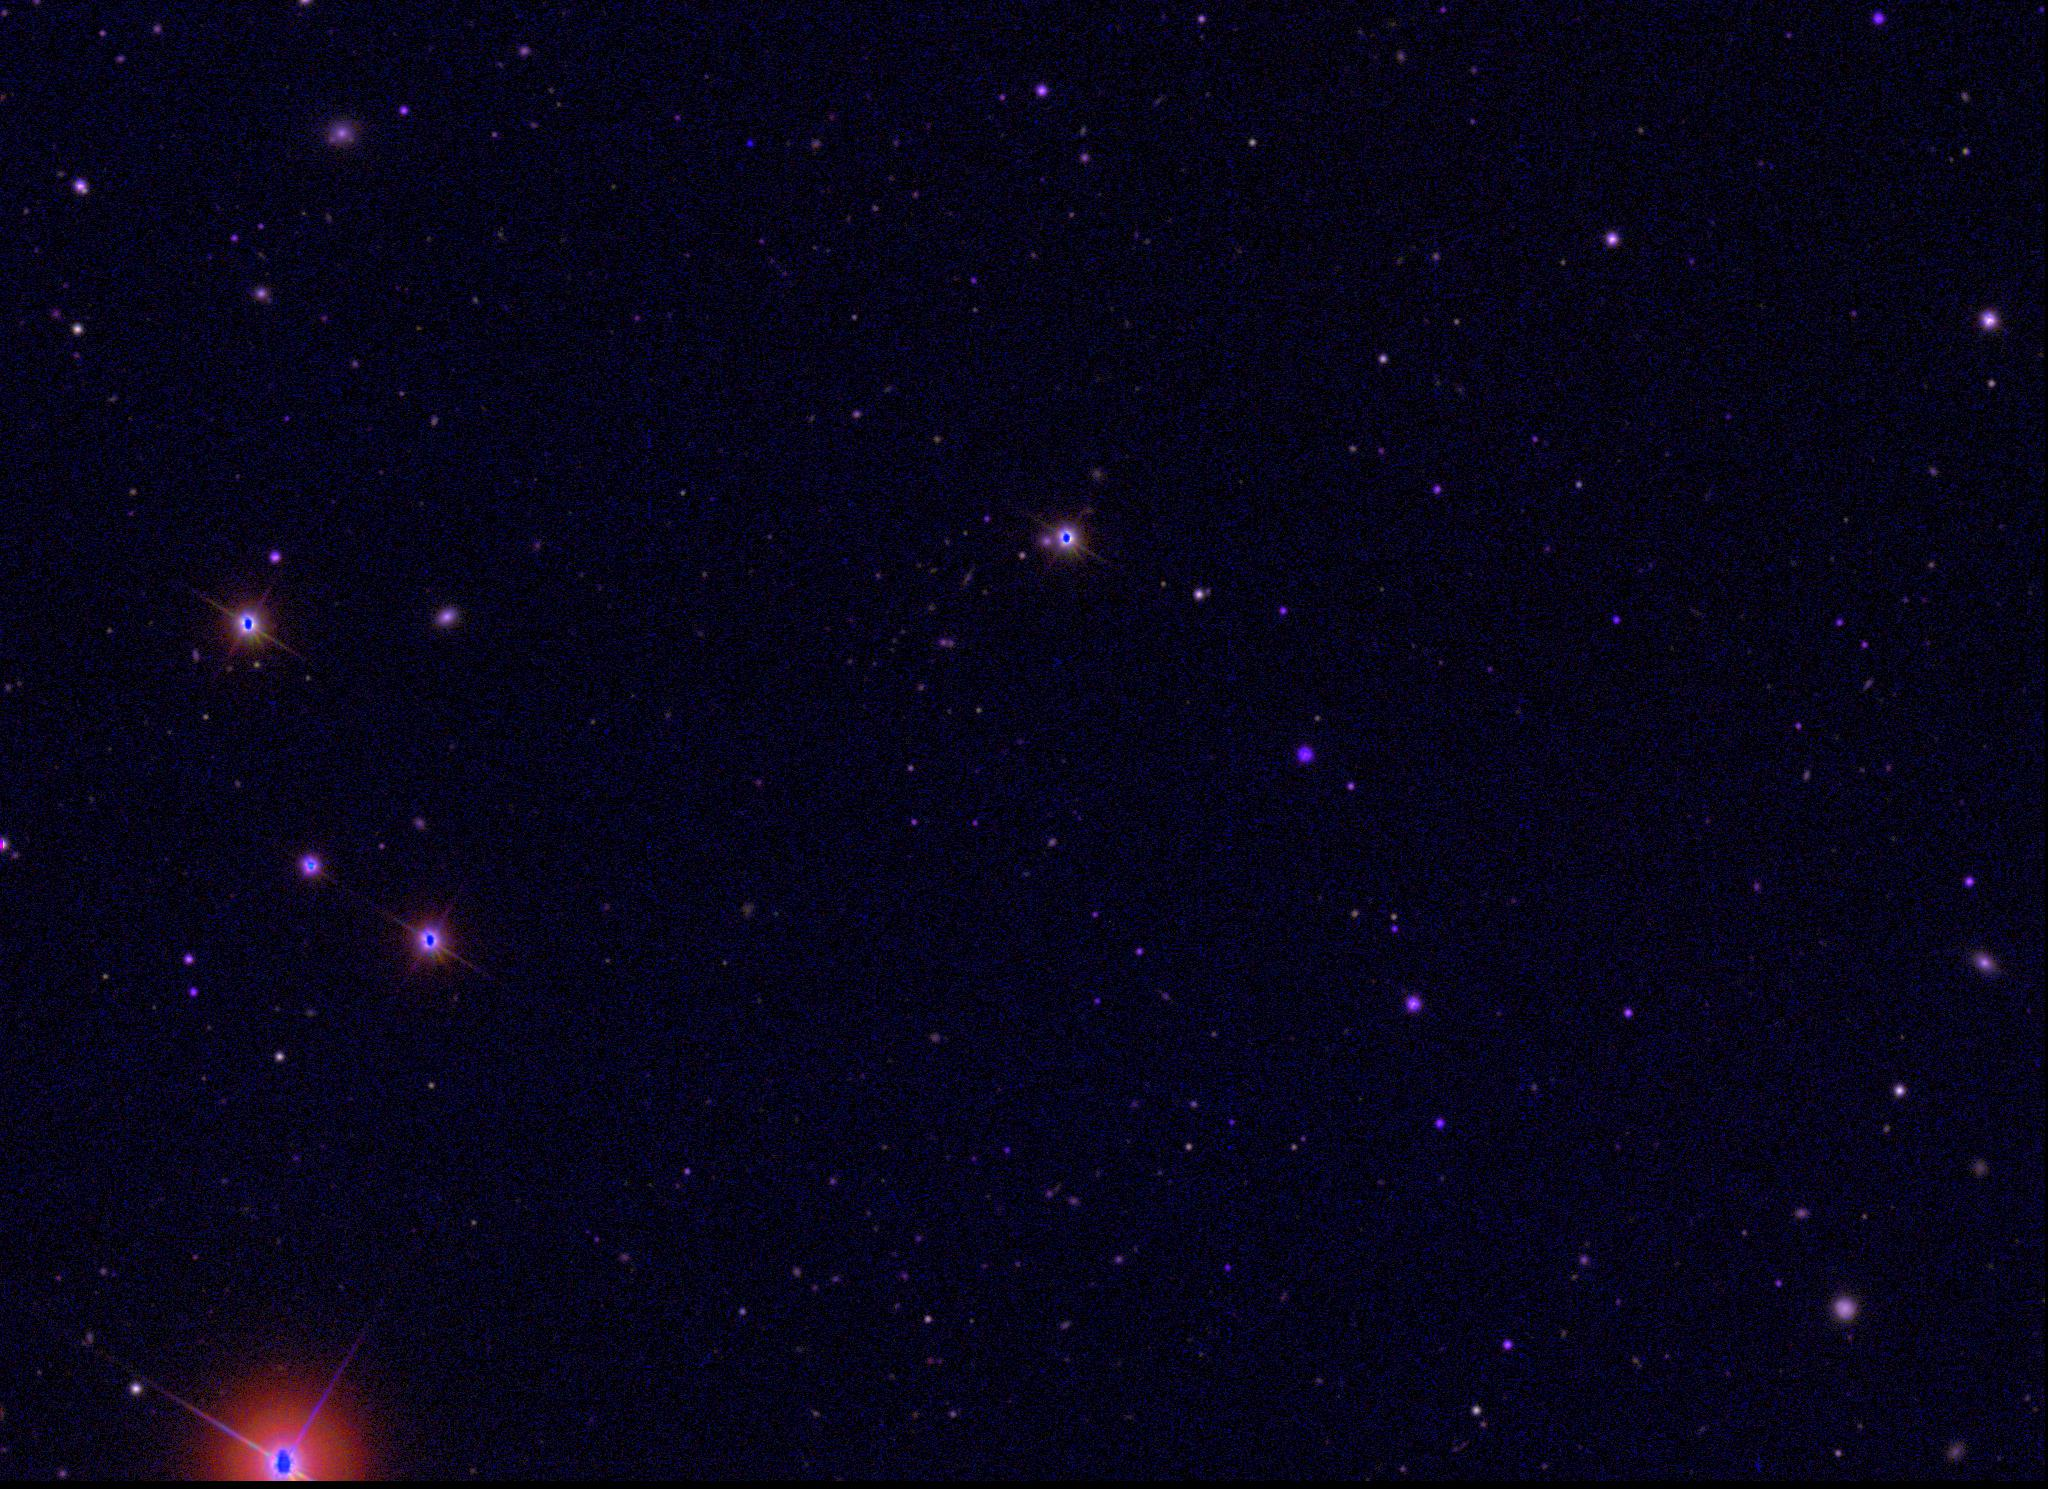L: (739, 135, 754, 150)
